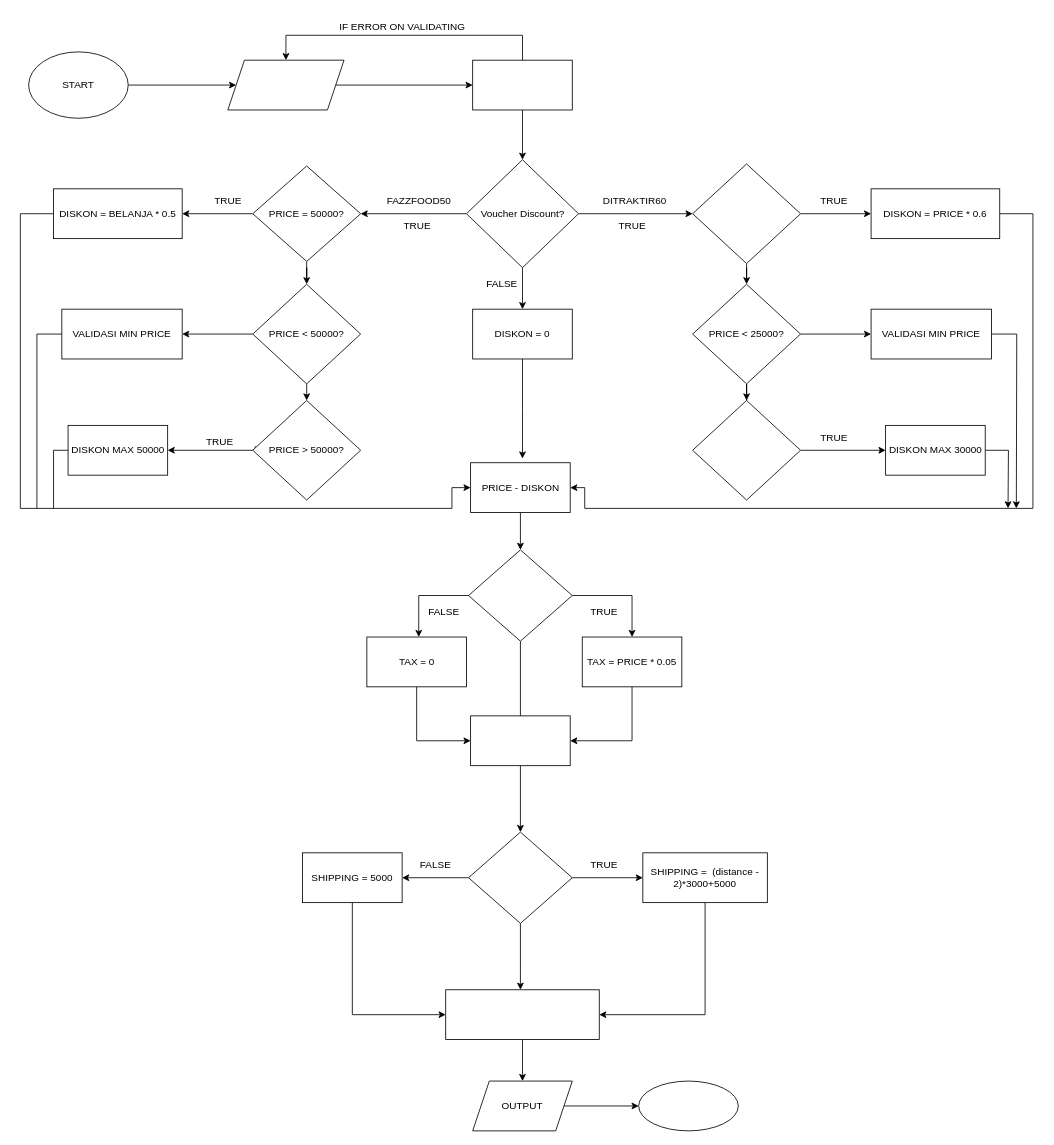
The diagram is 1054 pixels wide and 1145 high, and some of its shapes have lost their labels. Here are the shapes that lost their labels. From the top down, the centre of each, then its label:
At pixel 285 84: "INPUT".
At pixel 522 84: "Validasi Input".
At pixel 746 213: "PRICE = 25000".
At pixel 746 450: "PRICE > 25000".
At pixel 520 595: "TAX?".
At pixel 520 740: "PRICE + TAX".
At pixel 520 877: "DISTANCE >2 ?".
At pixel 522 1014: "SUB TOTAL = PRICE -DISCOUNT + TAX + SHIPPING".
At pixel 688 1105: "SELESAI".
